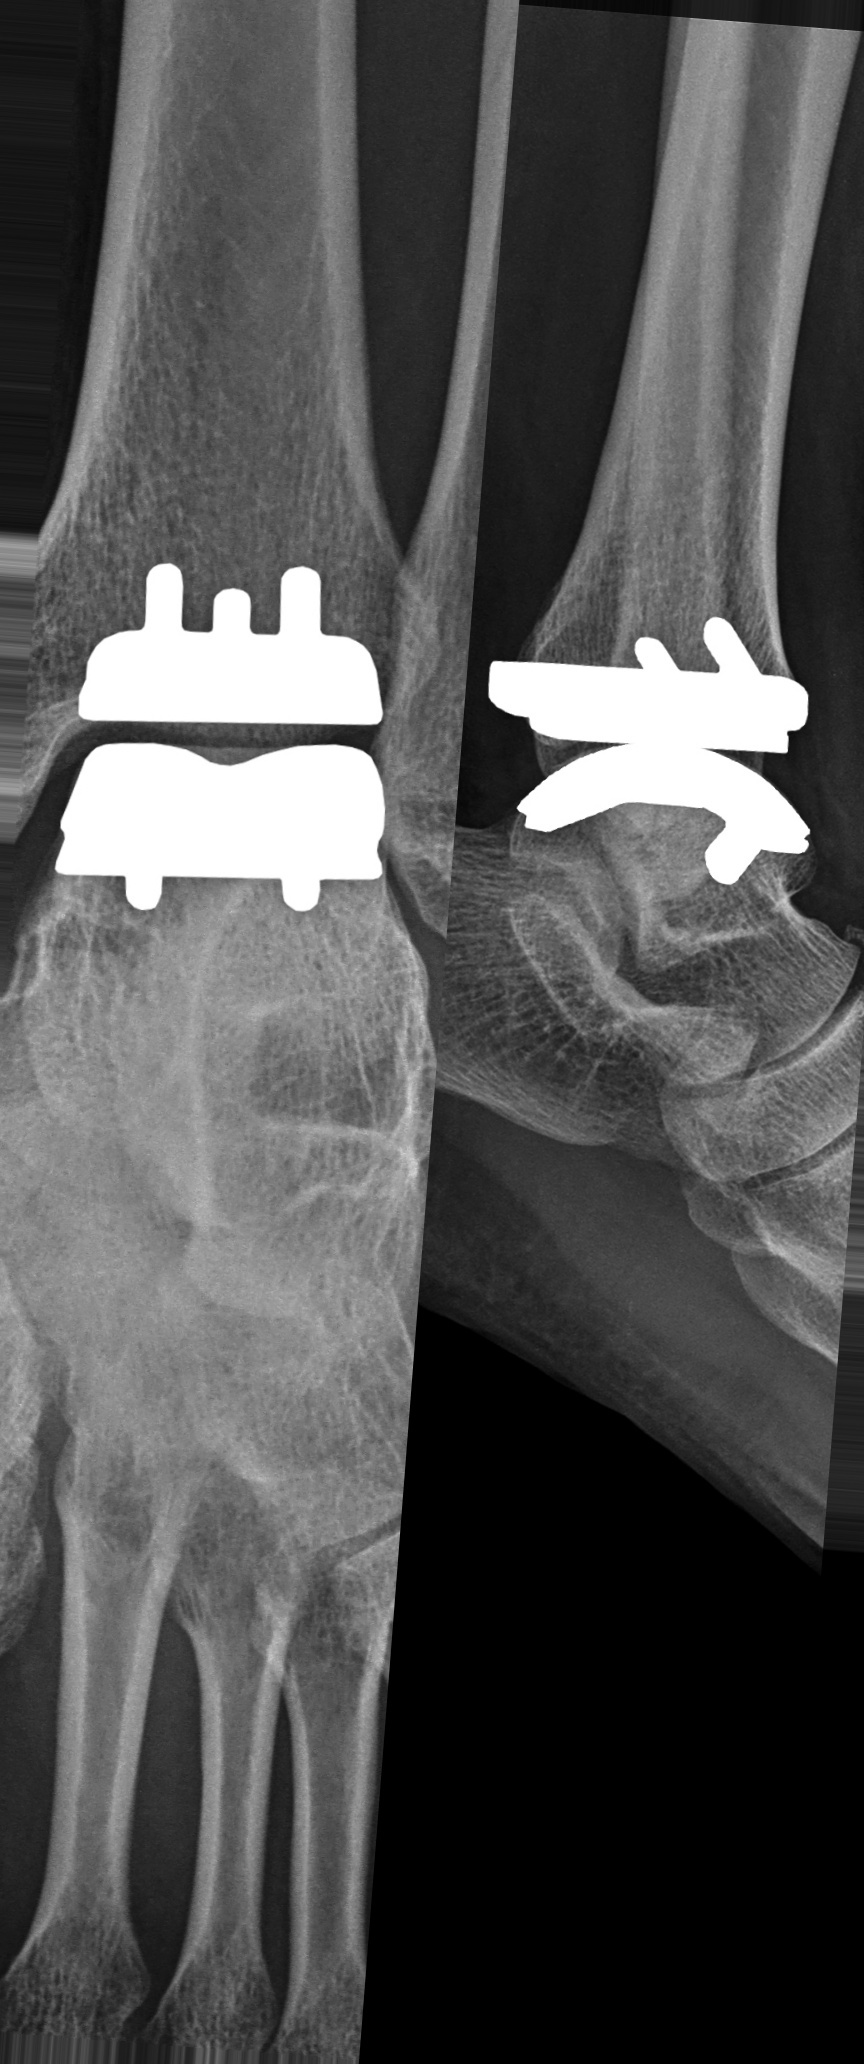Ankle - Infinity - Wright: (46, 558, 392, 950), (469, 606, 830, 908)
